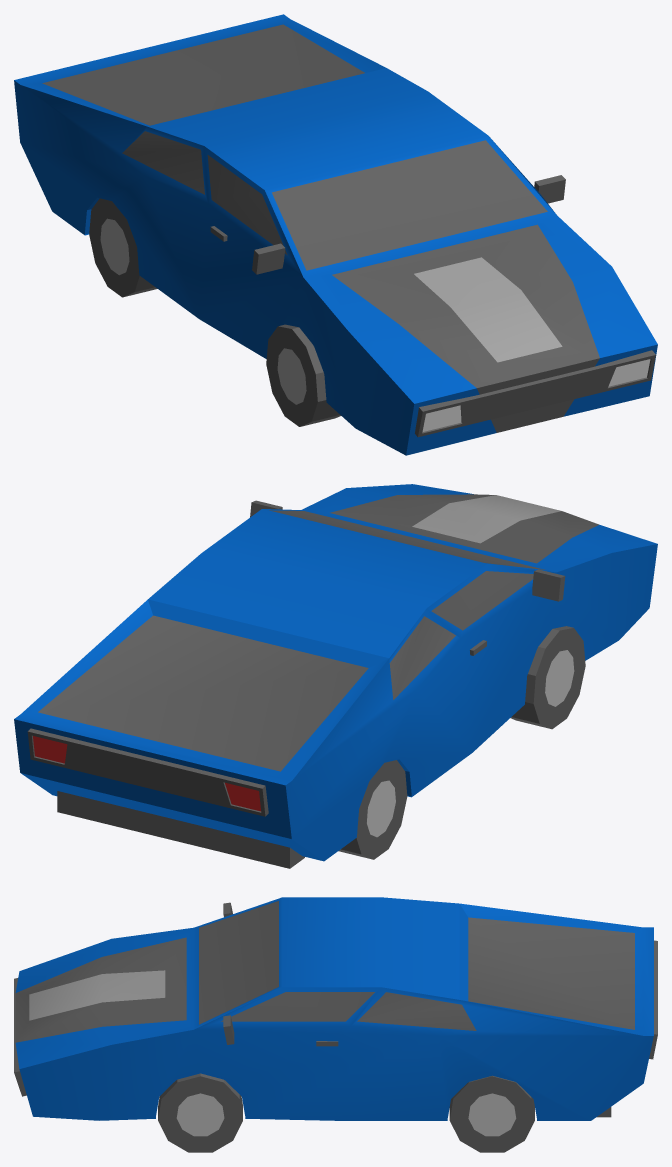
File: SM_Car_05_02.FBX
3 views of the same model, one above another, from view 1: azimuth 30°, elevation 25°; view 2: azimuth 150°, elevation 25°; view 3: azimuth 270°, elevation 25° (orthographic). The views are drawn at different scales.
Visible parts, largest first — view 1: SM_Car_05_02, SM_Wheel_LFront002, SM_Wheel_RBack001; view 2: SM_Car_05_02, SM_Wheel_LFront002, SM_Wheel_RBack001; view 3: SM_Car_05_02, SM_Wheel_LFront001, SM_Wheel_LBack001.
Boxes of the visible parts, box(x1,y1,x2,y2) form: SM_Car_05_02: box(14, 14, 657, 455); SM_Wheel_LFront002: box(266, 324, 340, 426); SM_Wheel_RBack001: box(89, 198, 157, 297); SM_Car_05_02: box(14, 484, 657, 868); SM_Wheel_LFront002: box(510, 626, 585, 729); SM_Wheel_RBack001: box(338, 760, 407, 859); SM_Car_05_02: box(14, 897, 657, 1120); SM_Wheel_LFront001: box(158, 1073, 242, 1152); SM_Wheel_LBack001: box(449, 1075, 534, 1152).
Bounding box in the file's own units: 1.7 × 1 × 3.74.
Materials: 1 (1 with a texture image).
